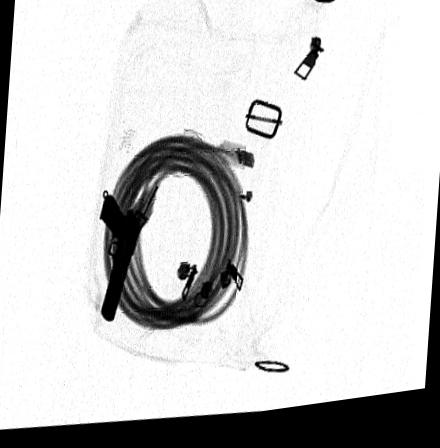Gun: (98, 197, 145, 326)
